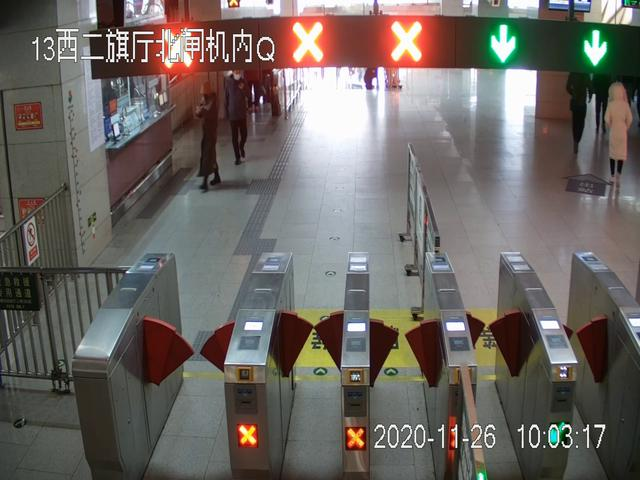person: (603, 81, 631, 187), (222, 68, 252, 165), (196, 82, 222, 191), (567, 70, 593, 155)
